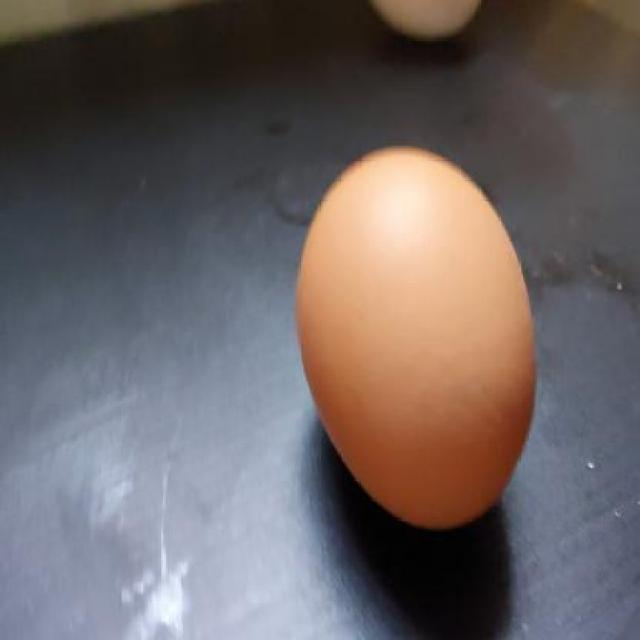biodegradable: (295, 148, 540, 530)
